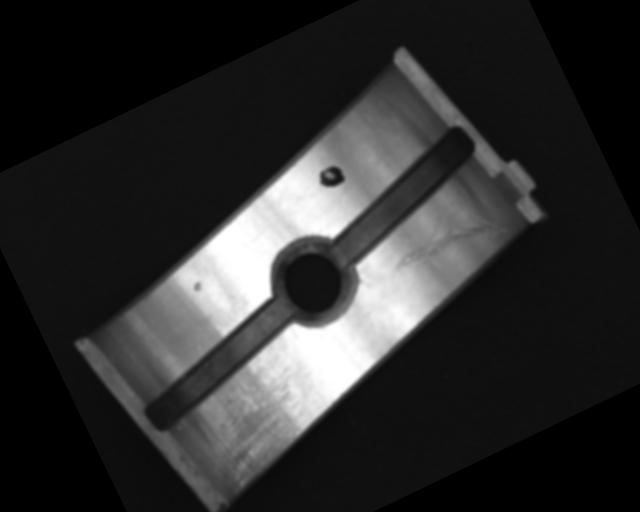blot: (314, 160, 348, 193)
bruise: (191, 280, 205, 292)
gap: (304, 119, 500, 271), (122, 294, 313, 435)
hole: (258, 228, 369, 338)
nick: (378, 188, 509, 283)
scratch: (181, 351, 328, 495)
